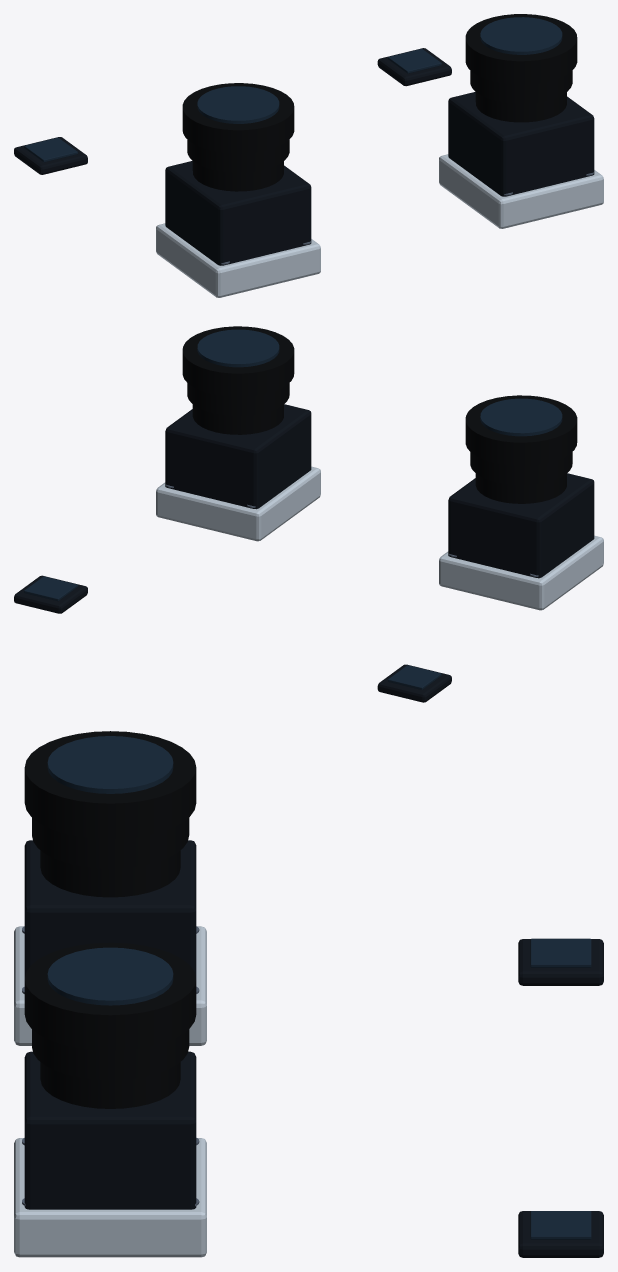
The model's file is Component_sensors.glb.
3 renders of one model, top to bottom at view 1: azimuth 30°, elevation 25°; view 2: azimuth 150°, elevation 25°; view 3: azimuth 270°, elevation 25°, orthographic. The views are drawn at different scales.
Parts seen in each view (by area): view 1: Tracker_body, Tracker_body.001, Tracker_mount, Tracker_mount.001, Tracker_sun_baffle.002, Tracker_sun_baffle.005, Tracker_lens.001, Tracker_lens, Tracker_sun_baffle.001, Tracker_sun_baffle.004, Tracker_sun_baffle.003, Tracker_sun_baffle (+4 smaller); view 2: Tracker_body.001, Tracker_body, Tracker_mount.001, Tracker_mount, Tracker_sun_baffle.002, Tracker_sun_baffle.005, Tracker_lens.001, Tracker_lens, Tracker_sun_baffle.004, Tracker_sun_baffle.001, Tracker_sun_baffle.003, Tracker_sun_baffle (+4 smaller); view 3: Tracker_body.001, Tracker_body, Tracker_mount.001, Tracker_sun_baffle.002, Tracker_sun_baffle.005, Tracker_lens.001, Tracker_lens, Tracker_sun_baffle.001, Tracker_sun_baffle.004, Tracker_sun_baffle, Tracker_sun_baffle.003, Tracker_mount (+4 smaller).
Boxes of the visible parts, left/top/right/bottom form: Tracker_body: left=165, top=161, right=311, bottom=265; Tracker_body.001: left=448, top=92, right=594, bottom=196; Tracker_mount: left=156, top=223, right=320, bottom=297; Tracker_mount.001: left=439, top=154, right=603, bottom=228; Tracker_sun_baffle.002: left=182, top=83, right=294, bottom=153; Tracker_sun_baffle.005: left=465, top=14, right=577, bottom=84; Tracker_lens.001: left=480, top=17, right=562, bottom=54; Tracker_lens: left=197, top=86, right=279, bottom=123; Tracker_sun_baffle.001: left=187, top=139, right=289, bottom=172; Tracker_sun_baffle.004: left=470, top=70, right=572, bottom=103; Tracker_sun_baffle.003: left=475, top=92, right=566, bottom=122; Tracker_sun_baffle: left=192, top=161, right=283, bottom=191; Tracker_body.001: left=165, top=404, right=311, bottom=509; Tracker_body: left=448, top=473, right=594, bottom=578; Tracker_mount.001: left=156, top=466, right=320, bottom=541; Tracker_mount: left=439, top=535, right=603, bottom=610; Tracker_sun_baffle.002: left=465, top=395, right=577, bottom=465; Tracker_sun_baffle.005: left=182, top=326, right=294, bottom=396; Tracker_lens.001: left=197, top=329, right=279, bottom=367; Tracker_lens: left=480, top=398, right=562, bottom=436; Tracker_sun_baffle.004: left=187, top=383, right=289, bottom=415; Tracker_sun_baffle.001: left=470, top=452, right=572, bottom=484; Tracker_sun_baffle.003: left=192, top=404, right=283, bottom=434; Tracker_sun_baffle: left=475, top=473, right=566, bottom=503; Tracker_body.001: left=24, top=1051, right=196, bottom=1209; Tracker_body: left=24, top=840, right=196, bottom=978; Tracker_mount.001: left=14, top=1138, right=206, bottom=1257; Tracker_sun_baffle.002: left=24, top=731, right=196, bottom=839; Tracker_sun_baffle.005: left=24, top=942, right=196, bottom=1050; Tracker_lens.001: left=47, top=947, right=173, bottom=1005; Tracker_lens: left=47, top=736, right=173, bottom=793; Tracker_sun_baffle.001: left=32, top=817, right=189, bottom=868; Tracker_sun_baffle.004: left=32, top=1029, right=189, bottom=1080; Tracker_sun_baffle: left=40, top=850, right=180, bottom=897; Tracker_sun_baffle.003: left=40, top=1062, right=180, bottom=1108; Tracker_mount: left=14, top=926, right=206, bottom=1045.
Size of the model in its own units: 1.02 by 0.38 by 0.825.
